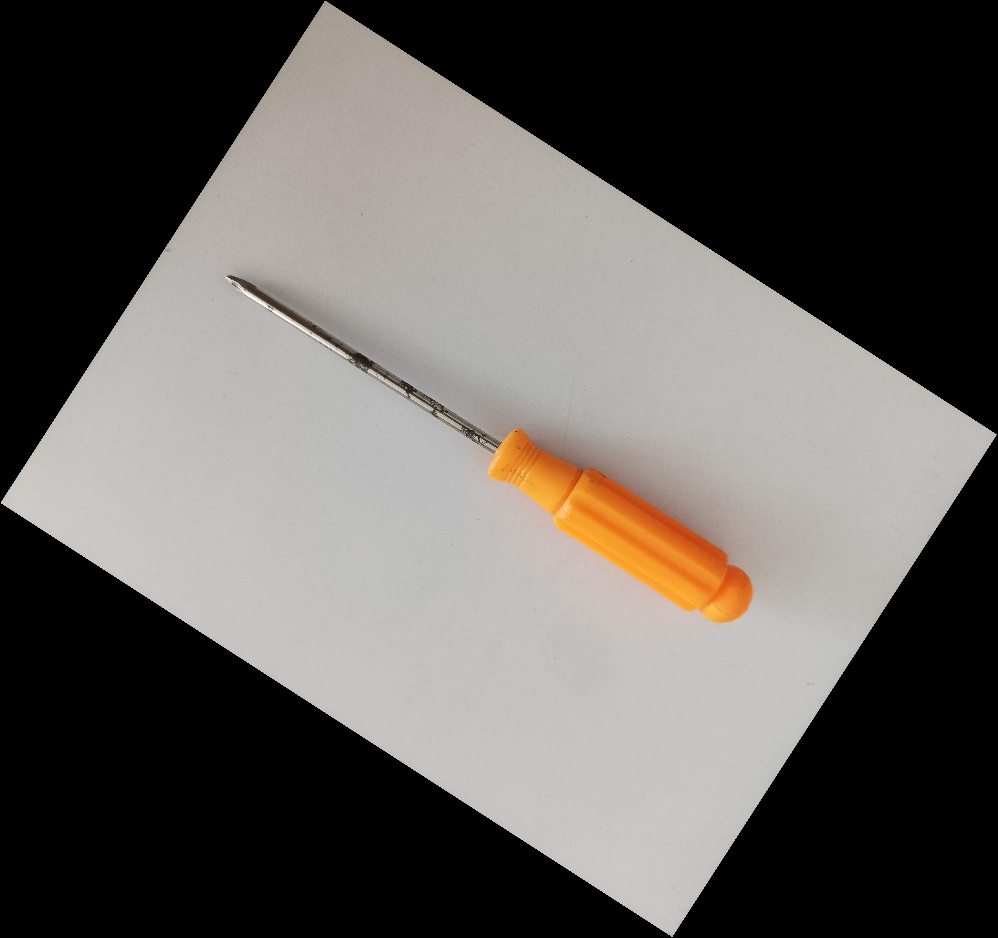screwdriver: (221, 269, 756, 627)
